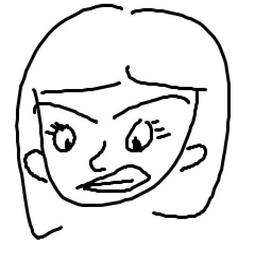ear: (177, 140, 213, 174), (20, 148, 50, 184)
eye: (124, 114, 172, 154), (44, 118, 78, 155)
frowning_eyebrow: (108, 91, 191, 122), (32, 100, 101, 125)
nose: (88, 137, 108, 172)
open_mouth: (79, 162, 155, 195)
